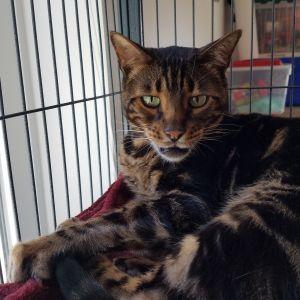bengal: (101, 27, 245, 164)
